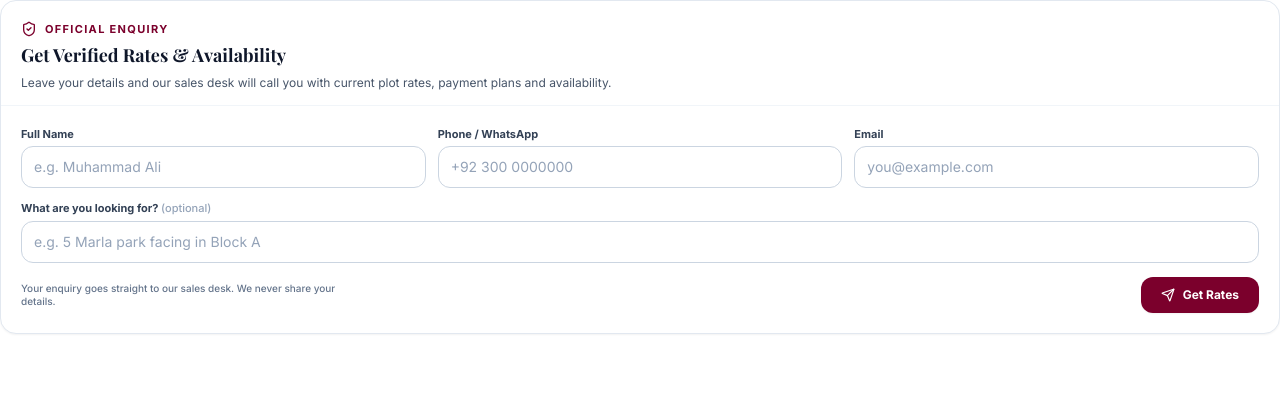
QuickLeadForm › reports a failed submission as a failure and keeps the values
Type "Retry Me" into the field labelled "Full Name".
click(223, 167); type("Retry Me")  # box [21, 146, 426, 188]
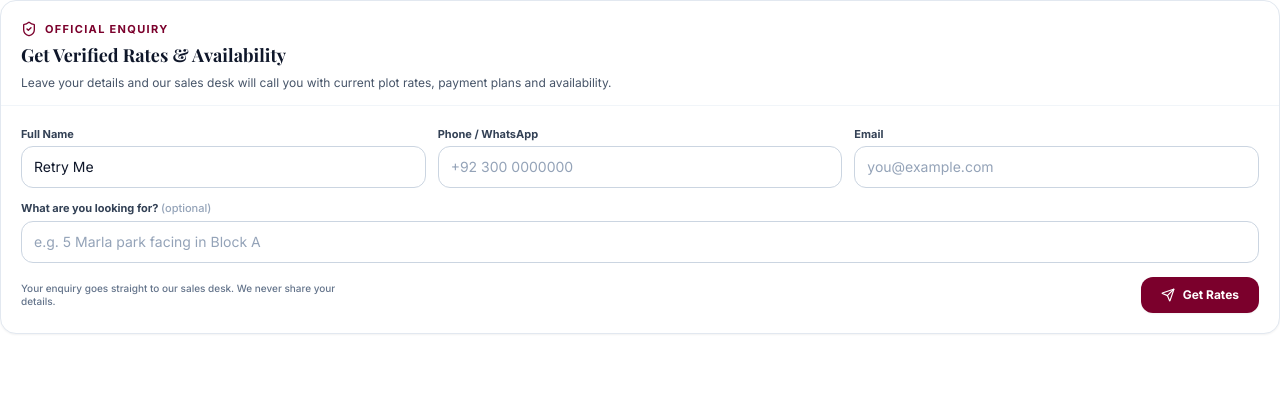
Type "0300-999" into the field labelled "Phone / WhatsApp".
click(640, 167); type("0300-999")  # box [438, 146, 842, 188]
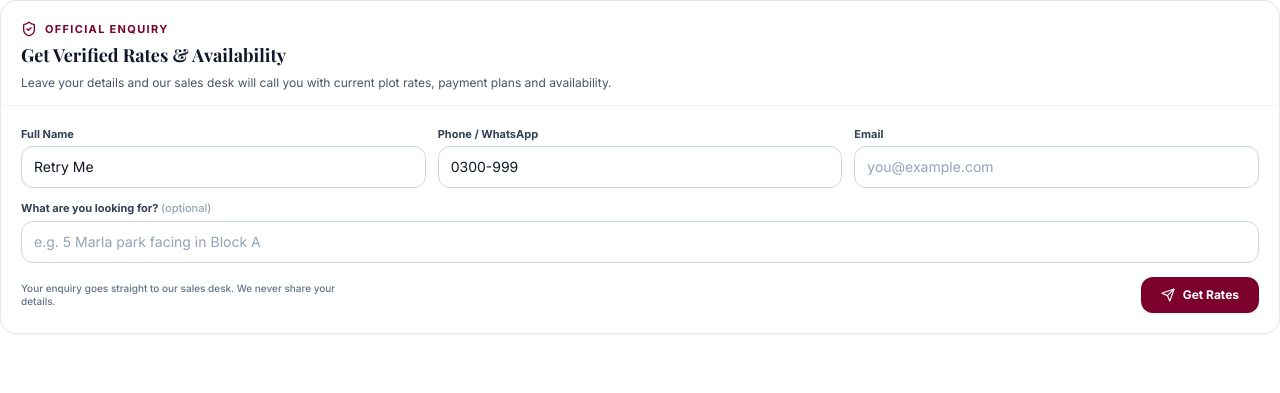
Click the button "Get Rates".
click(1200, 294)  # box [1141, 276, 1259, 312]
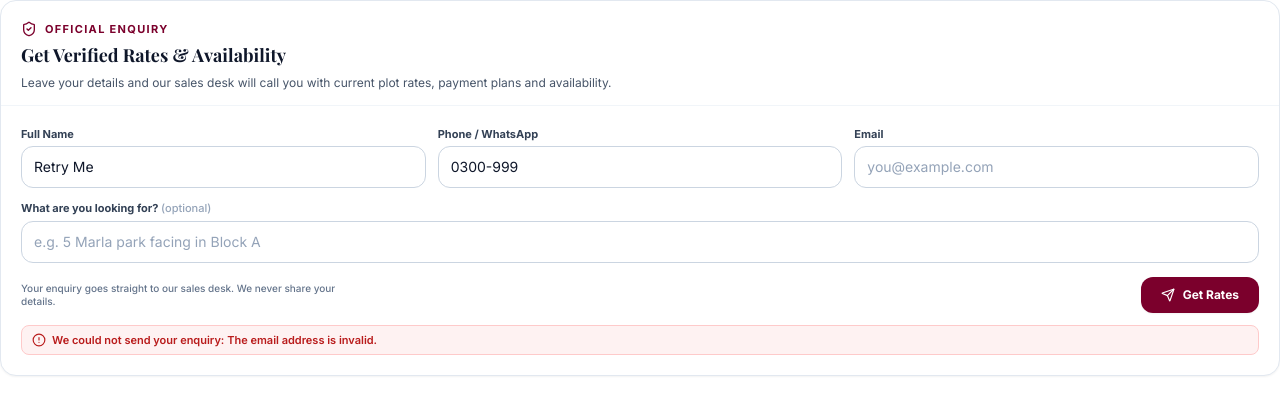
expect the message "We could not send your enquiry: The email address is invalid." is shown: met, box [21, 324, 1259, 355]
